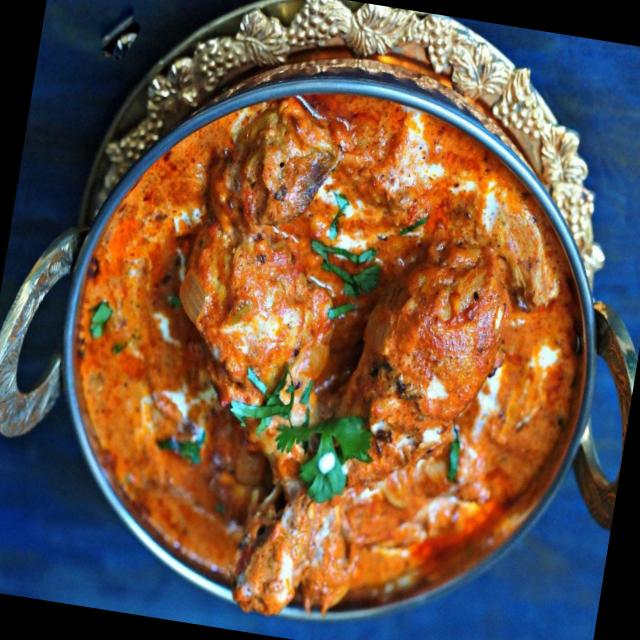chicken: (49, 80, 596, 610)
